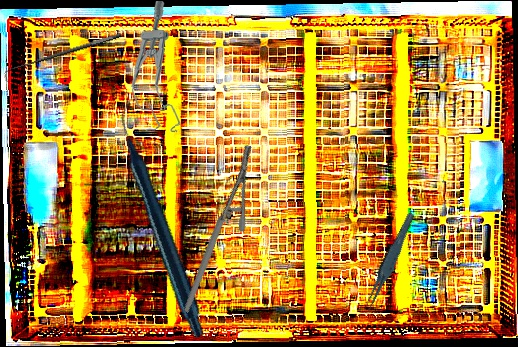Handpiece: (65, 102, 262, 340)
Hook Surgical: (0, 31, 125, 83)
Needle Holder: (138, 143, 296, 313)
Speculum: (127, 0, 181, 135)
Tissue Forceps: (353, 211, 423, 317)
